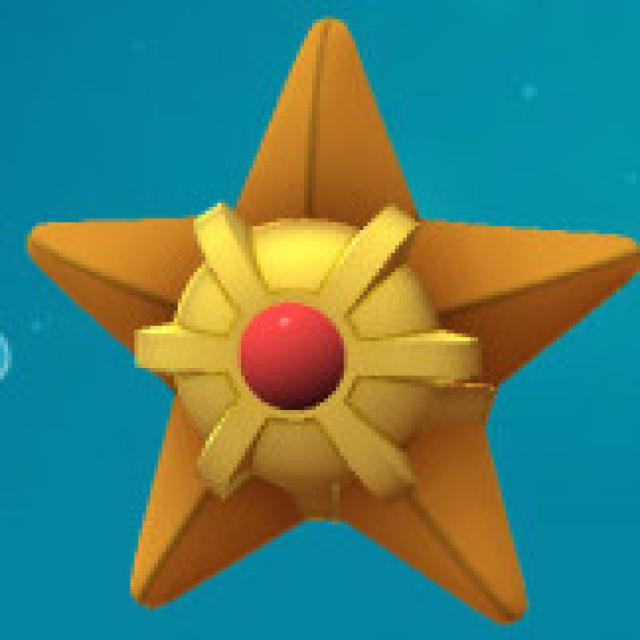Staryu: (46, 16, 636, 622)
